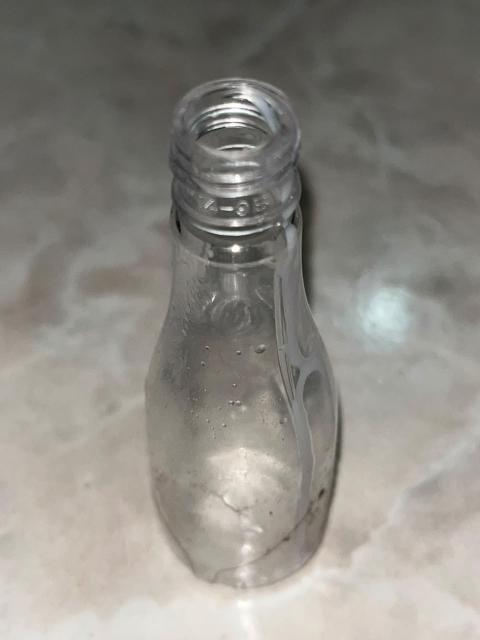PET: (125, 83, 372, 599)
